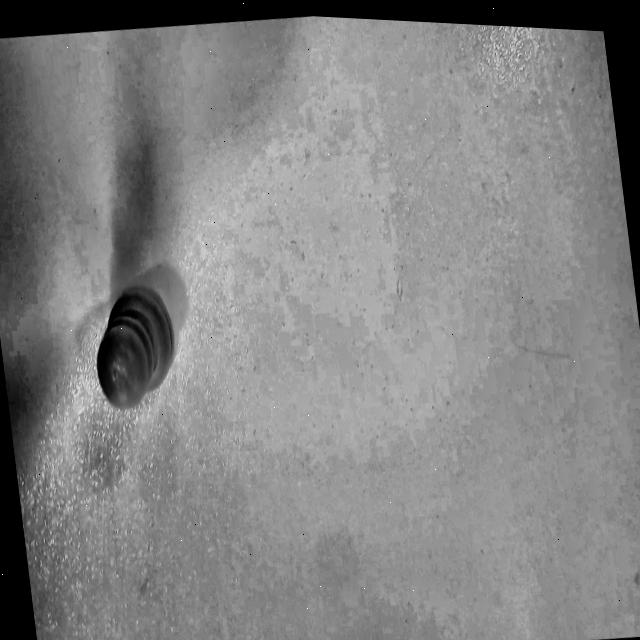white-pawn: (53, 240, 198, 448)
